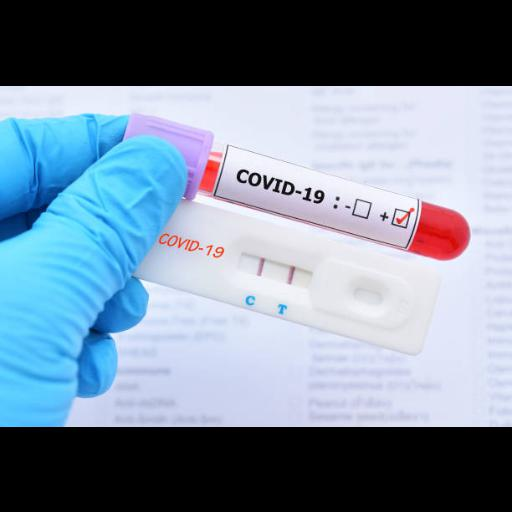Pos: (136, 191, 440, 356)
